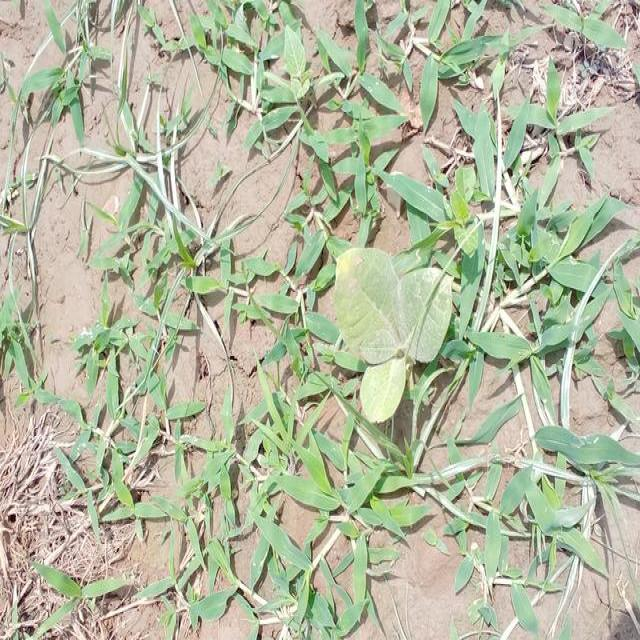crop: (329, 237, 465, 429)
